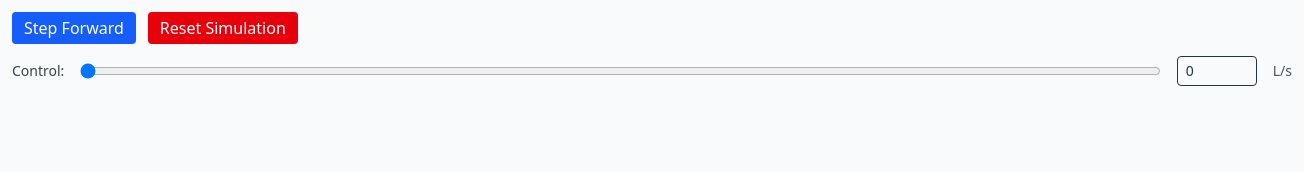
Test: SimulationControls › displays step count and simulation time after successful step
Click the button "Step Forward".
click(74, 28)  # box [12,12,136,44]
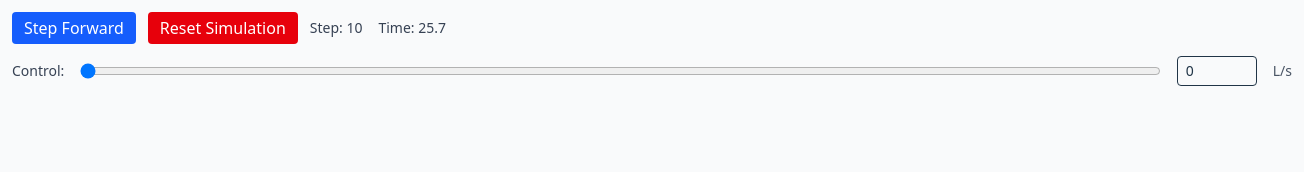
Result: the text "Step: 10" is shown at [310,18,362,38]
Result: the text "Time: 25.7" is shown at [378,18,446,38]
